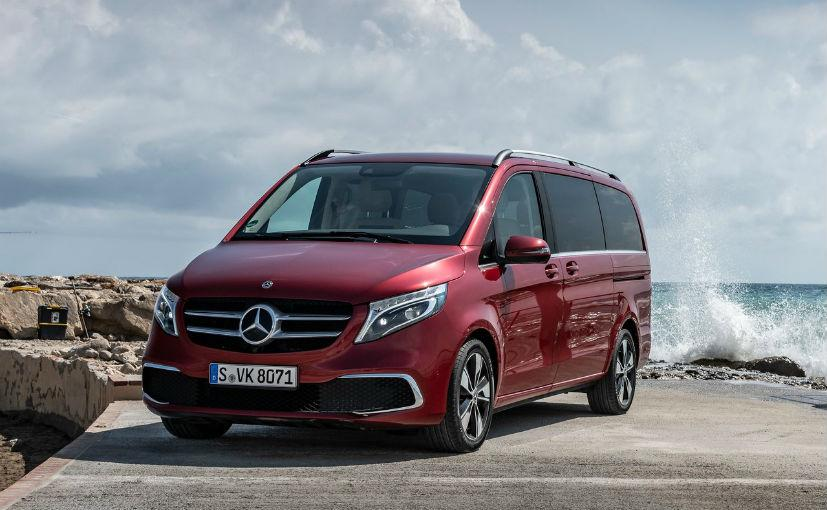van: (139, 148, 652, 454)
